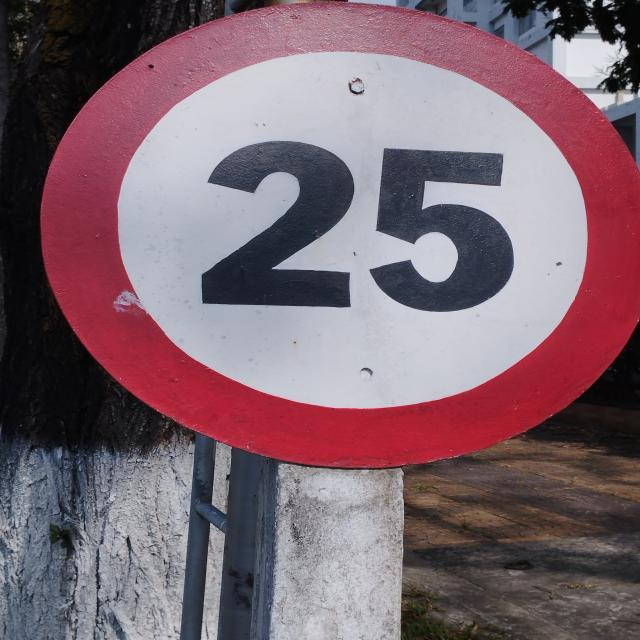Tre_Em: (39, 1, 640, 470)
